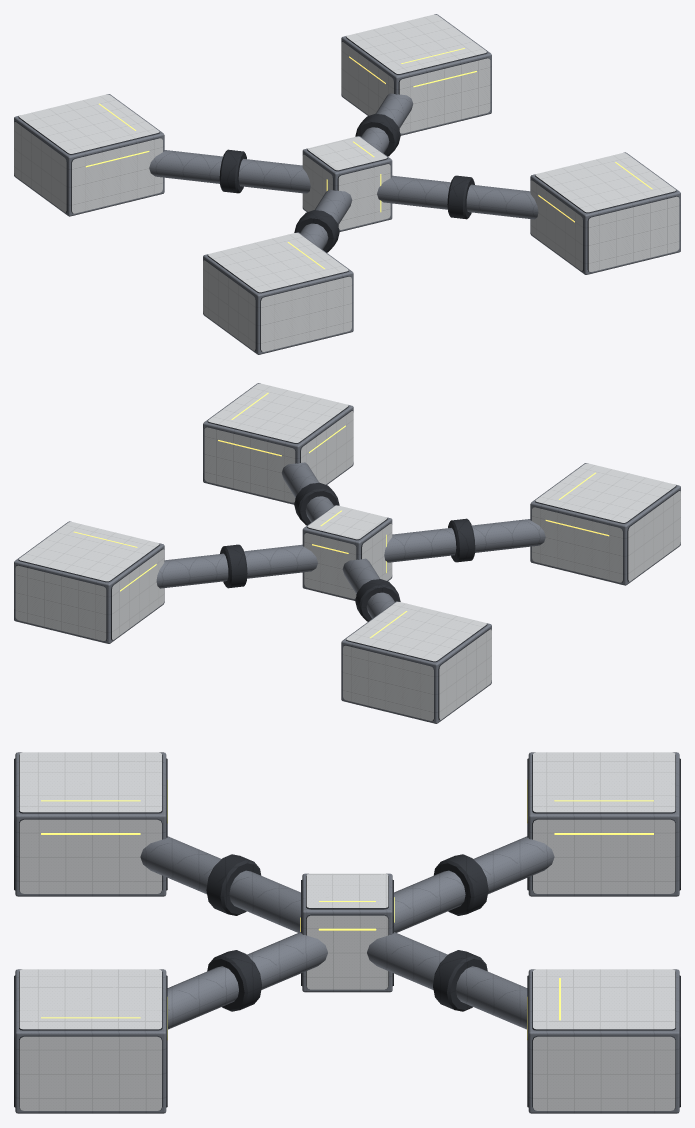
Rendered from R4C_ROD_CROSS.glb.
3 renders of one model, top to bottom at view 1: azimuth 30°, elevation 25°; view 2: azimuth 150°, elevation 25°; view 3: azimuth 270°, elevation 25°, orthographic. The views are drawn at different scales.
Parts seen in each view (by area): view 1: R4C_ROD_CROSS; view 2: R4C_ROD_CROSS; view 3: R4C_ROD_CROSS.
Boxes of the visible parts, x1=… form: R4C_ROD_CROSS: x1=14, y1=14, x2=680, y2=354; R4C_ROD_CROSS: x1=14, y1=383, x2=680, y2=723; R4C_ROD_CROSS: x1=14, y1=752, x2=680, y2=1113.
Size of the model in its own units: 1.62 by 0.2284 by 1.62.
Materials: 4 (3 with a texture image).
